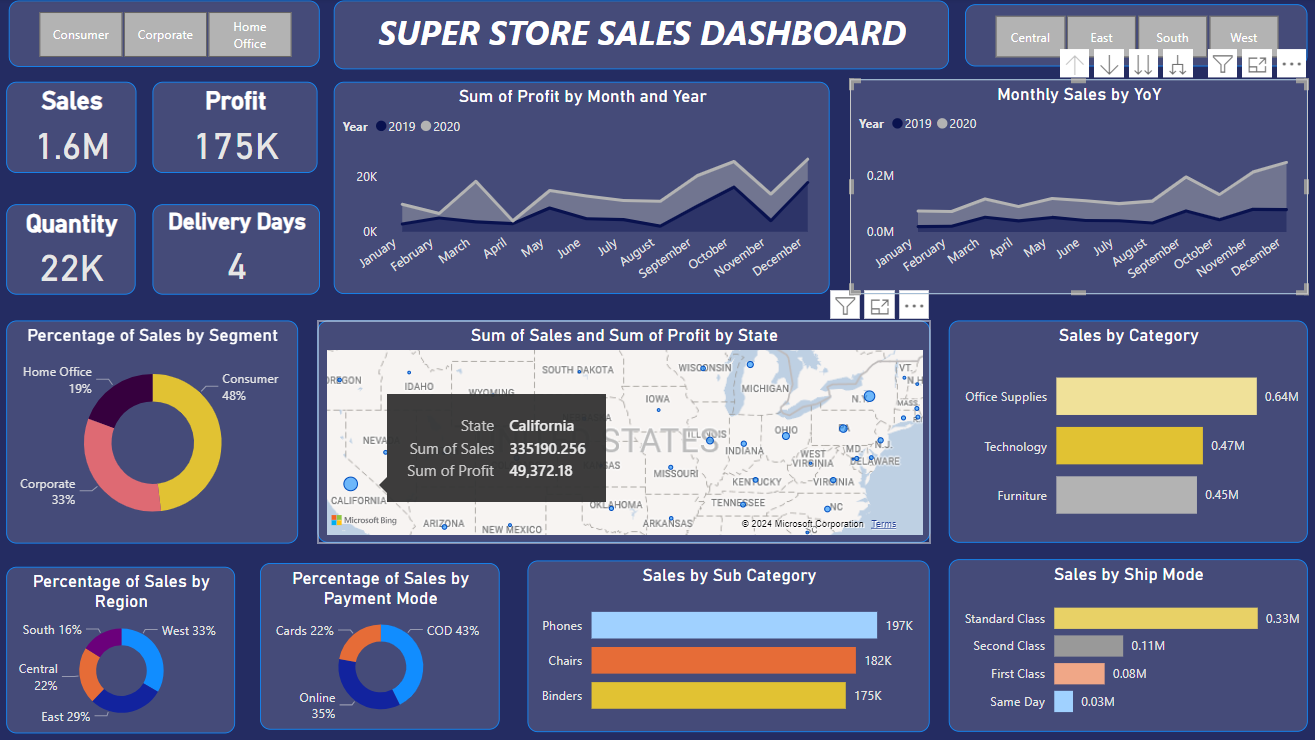

This screenshot's page, from the dashboard's own definition file:
{"tool":"powerbi","page":{"name":"Page 1","canvas":[1280,720],"ordinal":0},"visuals":[{"type":"clusteredBarChart","title":"Sales by Category","fields":{"Category":["SuperStore_Sales_Dataset.Category"],"Y":["Sum(SuperStore_Sales_Dataset.Sales)"]},"box":[920.2,311.2,346.1,214.7],"z":0},{"type":"clusteredBarChart","title":"Sales by Sub Category","fields":{"Category":["SuperStore_Sales_Dataset.Sub-Category"],"Y":["Sum(SuperStore_Sales_Dataset.Sales)"]},"box":[513.8,542.7,388.3,165.2],"z":1000},{"type":"clusteredBarChart","title":"Sales by Ship Mode","fields":{"Category":["SuperStore_Sales_Dataset.Ship Mode"],"Y":["Sum(SuperStore_Sales_Dataset.Sales)"]},"box":[920,541.2,346.2,166.2],"z":2000},{"type":"stackedAreaChart","title":"Monthly Sales by YoY","fields":{"Y":["Sum(SuperStore_Sales_Dataset.Sales)"],"Category":["SuperStore_Sales_Dataset.Order Date.Variation.Date Hierarchy.Month","SuperStore_Sales_Dataset.Order Date.Variation.Date Hierarchy.Day"],"Series":["SuperStore_Sales_Dataset.Order Date.Variation.Date Hierarchy.Year"]},"box":[825,78.8,441.2,207.5],"z":3000},{"type":"stackedAreaChart","fields":{"Category":["SuperStore_Sales_Dataset.Order Date.Variation.Date Hierarchy.Month","SuperStore_Sales_Dataset.Order Date.Variation.Date Hierarchy.Day"],"Series":["SuperStore_Sales_Dataset.Order Date.Variation.Date Hierarchy.Year"],"Y":["Sum(SuperStore_Sales_Dataset.Profit)"]},"box":[326.2,81.2,478.8,205],"z":4000},{"type":"map","fields":{"Category":["SuperStore_Sales_Dataset.State"],"Size":["Sum(SuperStore_Sales_Dataset.Sales)"]},"box":[311.2,311.2,591,214.7],"z":5000},{"type":"donutChart","title":"Percentage of Sales by Segment","fields":{"Category":["SuperStore_Sales_Dataset.Segment"],"Y":["Sum(SuperStore_Sales_Dataset.Sales)"]},"box":[11.2,311.2,281.2,215],"z":6000},{"type":"donutChart","title":"Percentage of Sales by Payment Mode","fields":{"Category":["SuperStore_Sales_Dataset.Payment Mode"],"Y":["Sum(SuperStore_Sales_Dataset.Sales)"]},"box":[255.7,545.1,231.6,160.4],"z":7000},{"type":"slicer","fields":{"Values":["SuperStore_Sales_Dataset.Region"]},"box":[936.2,6.2,330,60],"z":8000},{"type":"textbox","box":[326.2,2.5,593.8,66.2],"z":9000},{"type":"card","title":"Sales","fields":{"Values":["Sum(SuperStore_Sales_Dataset.Sales)"]},"box":[11.2,81.2,125,87.5],"z":10000},{"type":"card","title":"Quantity","fields":{"Values":["Sum(SuperStore_Sales_Dataset.Quantity)"]},"box":[11.2,198.8,125,87.5],"z":11000},{"type":"card","title":"Profit","fields":{"Values":["Sum(SuperStore_Sales_Dataset.Profit)"]},"box":[161.2,81.2,152.5,87.5],"z":12000},{"type":"card","title":"Delivery Days","fields":{"Values":["Avg(SuperStore_Sales_Dataset.AvgDelievery)"]},"box":[162.5,198.8,151.2,87.5],"z":13000},{"type":"donutChart","title":"Percentage of Sales by Region","fields":{"Category":["SuperStore_Sales_Dataset.Region"],"Y":["Sum(SuperStore_Sales_Dataset.Sales)"]},"box":[10.9,548.7,220.7,160.4],"z":14000},{"type":"slicer","fields":{"Values":["SuperStore_Sales_Dataset.Segment"]},"box":[11.2,2.5,300,63.8],"z":15000}]}

Visuals, with their boxes in screenshot pixels (x1, y1, x2, y2), scaled from the page's 1280x720 canvas onto the 1315x740 screenshot:
"Sales by Category" clusteredBarChart: [945,320,1301,541]
"Sales by Sub Category" clusteredBarChart: [528,558,927,728]
"Sales by Ship Mode" clusteredBarChart: [945,556,1301,727]
"Monthly Sales by YoY" stackedAreaChart: [848,81,1301,294]
stackedAreaChart - SuperStore_Sales_Dataset.Order Date.Variation.Date Hierarchy.Month x SuperStore_Sales_Dataset.Order Date.Variation.Date Hierarchy.Day: [335,83,827,294]
map - SuperStore_Sales_Dataset.State x Sum(SuperStore_Sales_Dataset.Sales): [320,320,927,541]
"Percentage of Sales by Segment" donutChart: [12,320,300,541]
"Percentage of Sales by Payment Mode" donutChart: [263,560,501,725]
slicer - SuperStore_Sales_Dataset.Region: [962,6,1301,68]
textbox: [335,3,945,71]
"Sales" card: [12,83,140,173]
"Quantity" card: [12,204,140,294]
"Profit" card: [166,83,322,173]
"Delivery Days" card: [167,204,322,294]
"Percentage of Sales by Region" donutChart: [11,564,238,729]
slicer - SuperStore_Sales_Dataset.Segment: [12,3,320,68]
